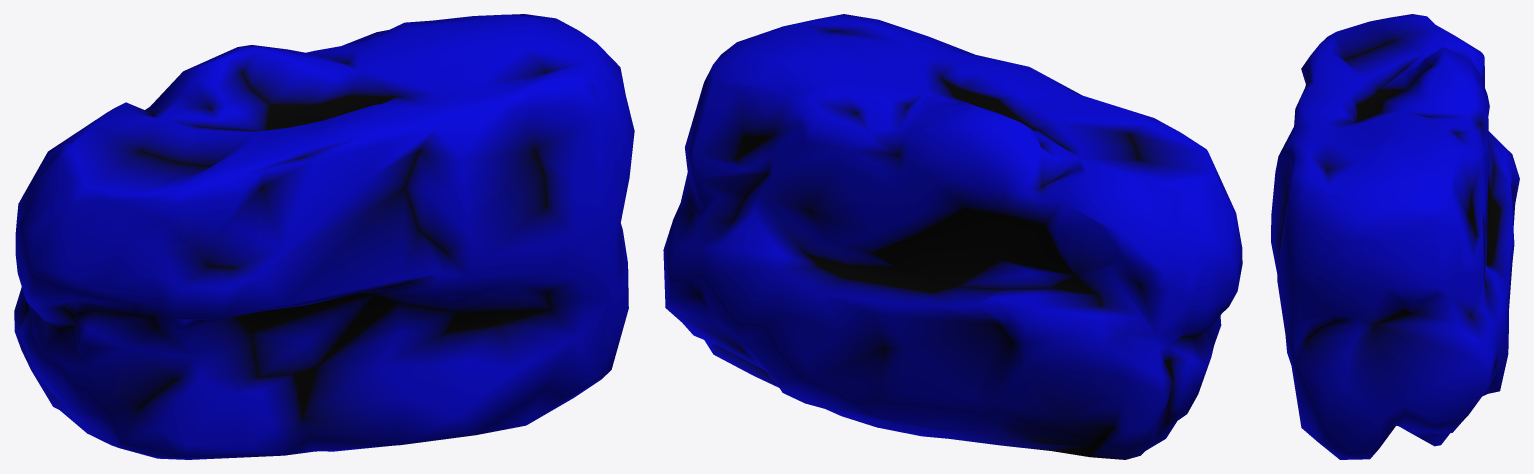
Rendered from Cave_Freeform3.fbx.
The picture shows the model from 3 angles, left to right: view 1: azimuth 30°, elevation 25°; view 2: azimuth 150°, elevation 25°; view 3: azimuth 270°, elevation 25°; orthographic projection. The views are drawn at different scales.
Parts seen in each view (by area): view 1: Cave_Freeform3; view 2: Cave_Freeform3; view 3: Cave_Freeform3.
Part boxes in pixels (box(x1,y1,x2,y2)): Cave_Freeform3: box(14, 14, 634, 459); Cave_Freeform3: box(663, 14, 1242, 459); Cave_Freeform3: box(1271, 14, 1519, 459).
Size of what is drawn, in the model's own units: 1.19 by 0.7226 by 0.5542.
